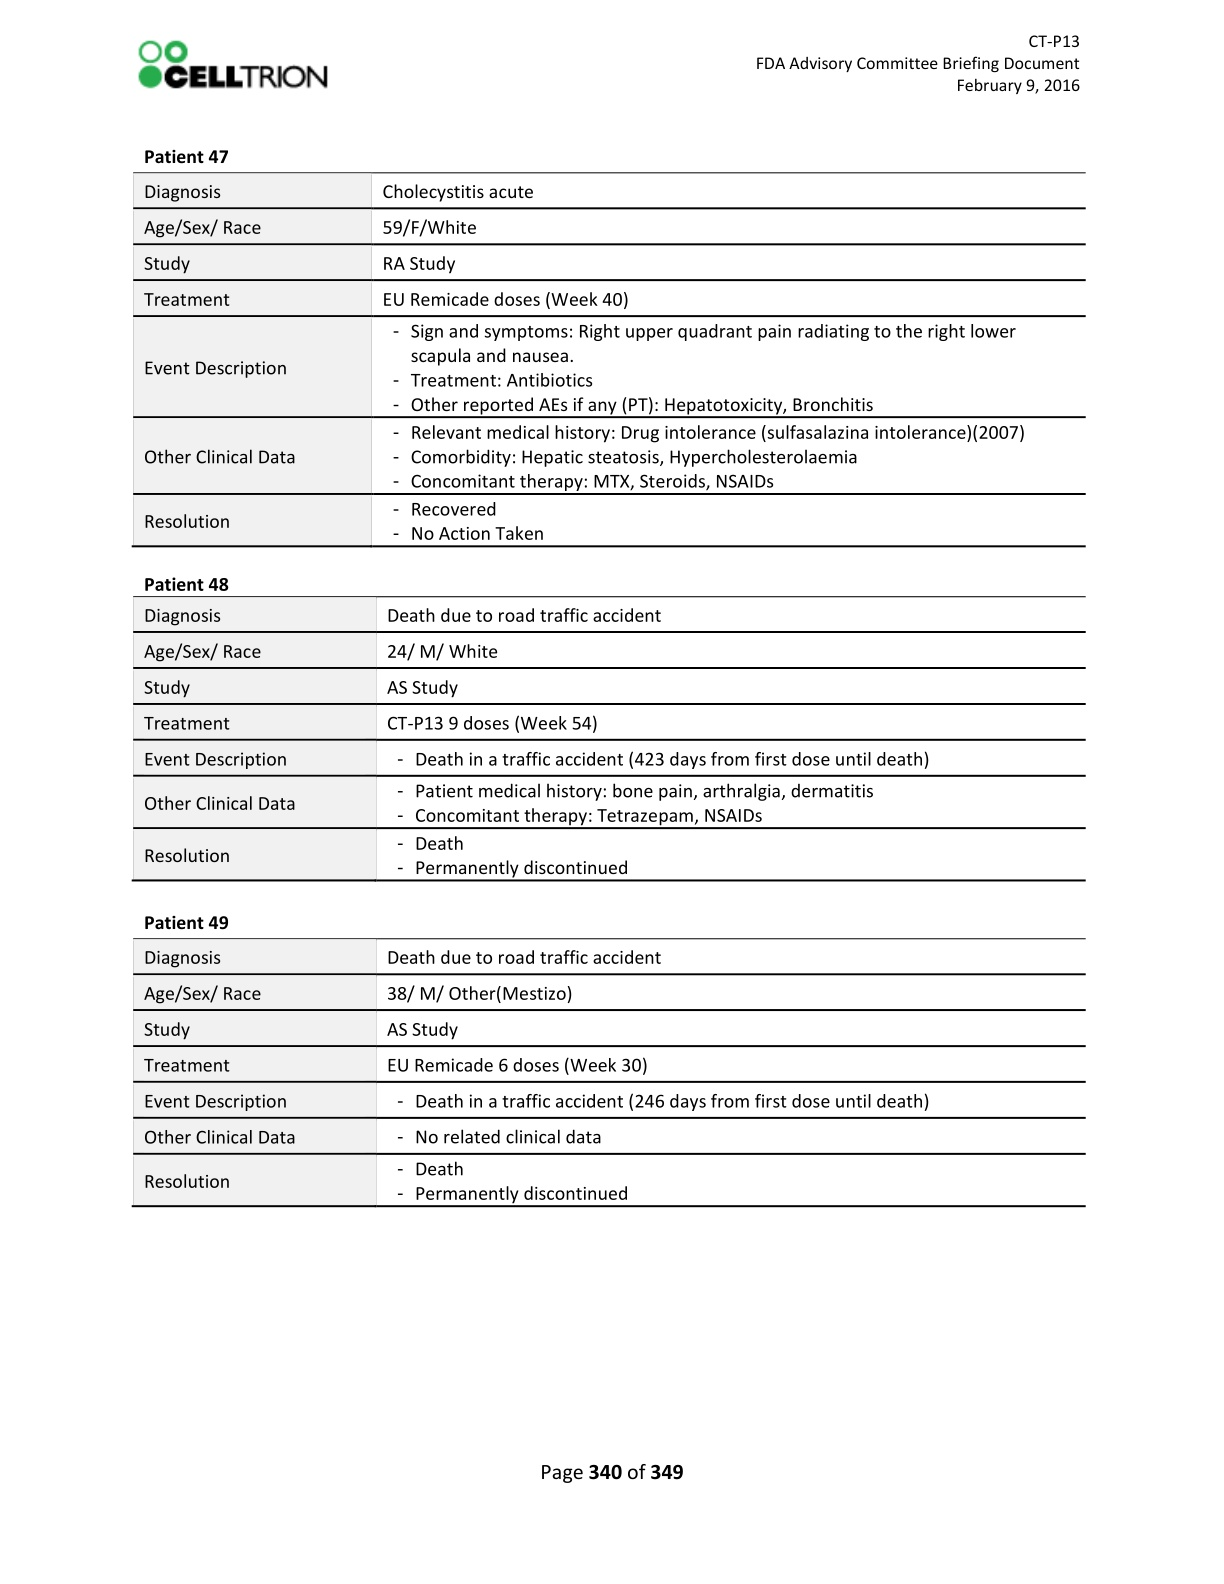partial_lined: (131, 171, 1086, 548), (131, 595, 1086, 882), (132, 936, 1086, 1209)
